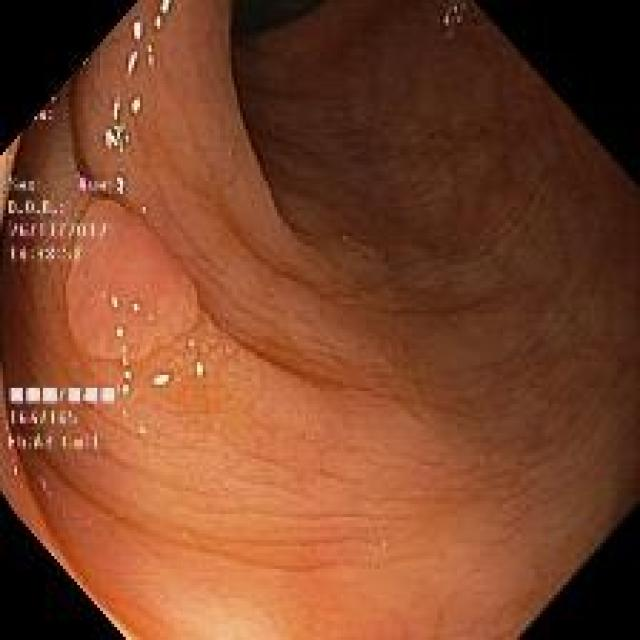Polyps: (66, 201, 199, 362)
